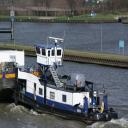tugboat: (15, 31, 121, 128)
